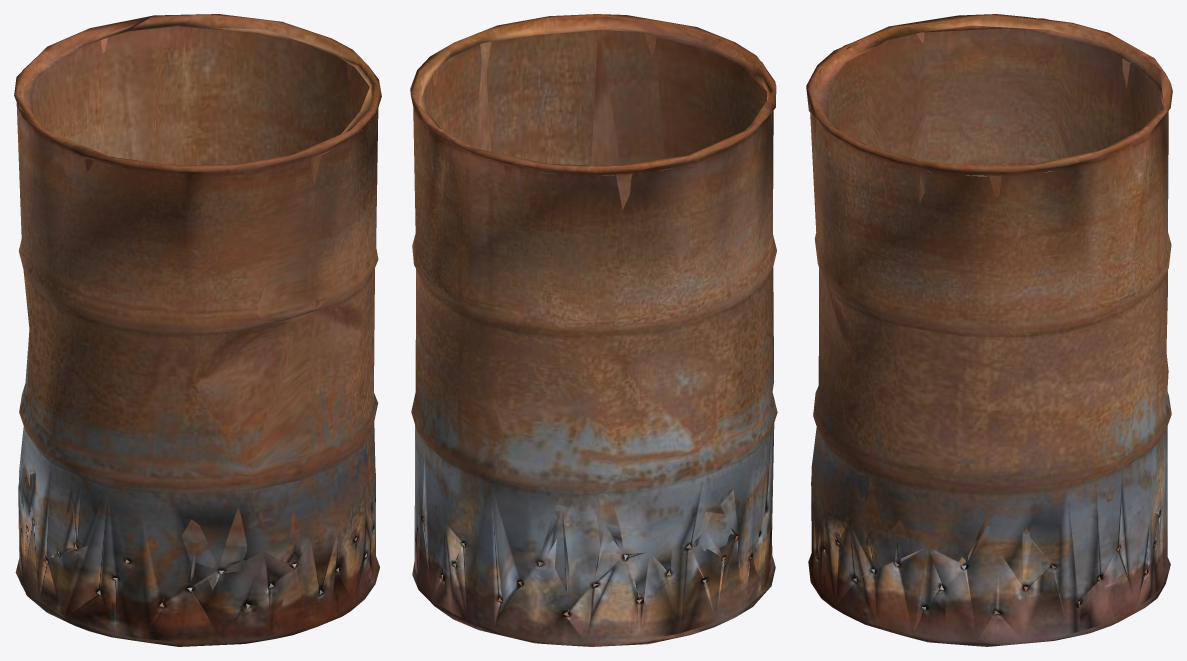
The model's file is barrel_fire.glb.
3 views of the same model, side by side, from view 1: azimuth 30°, elevation 25°; view 2: azimuth 150°, elevation 25°; view 3: azimuth 270°, elevation 25° (orthographic).
Parts seen in each view (by area): view 1: barrel_stove; view 2: barrel_stove; view 3: barrel_stove.
Boxes of the visible parts, left/top/right/bottom form: barrel_stove: left=14, top=14, right=381, bottom=646; barrel_stove: left=410, top=14, right=777, bottom=646; barrel_stove: left=806, top=14, right=1172, bottom=646.
Bounding box in the file's own units: 0.5923 × 0.8574 × 0.5924.
Materials: 1 (1 with a texture image).
